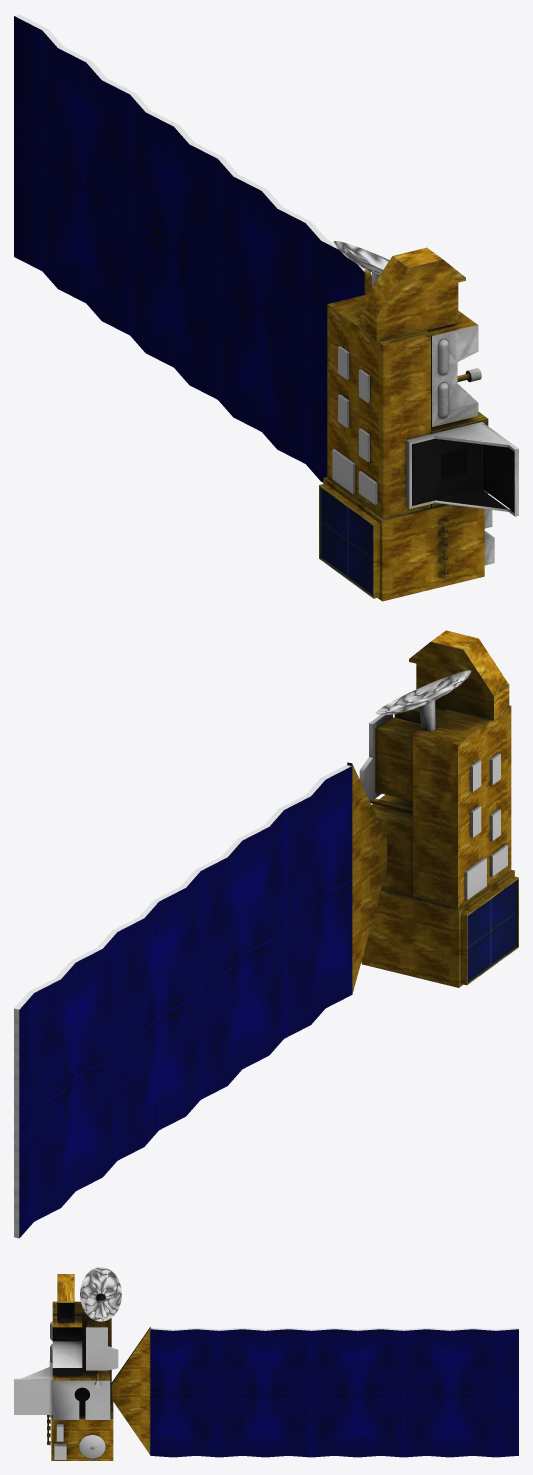
File: aura-web.glb
3 renders of one model, top to bottom at view 1: azimuth 30°, elevation 25°; view 2: azimuth 150°, elevation 25°; view 3: azimuth 270°, elevation 25°, orthographic. The views are drawn at different scales.
Parts seen in each view (by area): view 1: aura_uv.la; view 2: aura_uv.la; view 3: aura_uv.la.
Part boxes in pixels (bbox=[...]): aura_uv.la: bbox=[14, 14, 518, 601]; aura_uv.la: bbox=[14, 630, 518, 1238]; aura_uv.la: bbox=[14, 1267, 518, 1460].
Size of the model in its own units: 8.98 by 18.99 by 50.82.
Materials: 8 (8 with a texture image).
